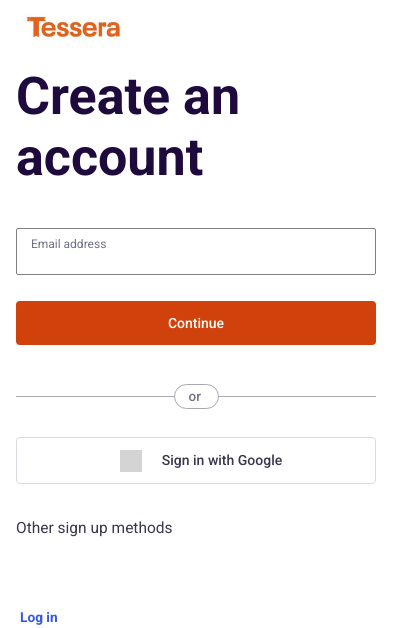
Scenario: sign-up › when pressing the continue button with empty email error will appear
Click the button "Continue": (196, 323) [16, 301, 376, 345]
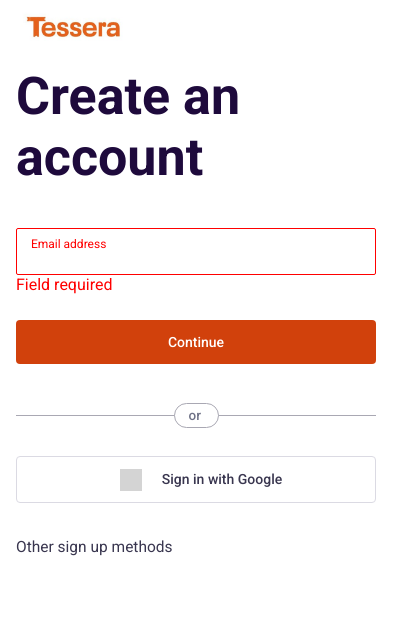
Result: the text "Field required" is shown at [16, 275, 112, 294]
